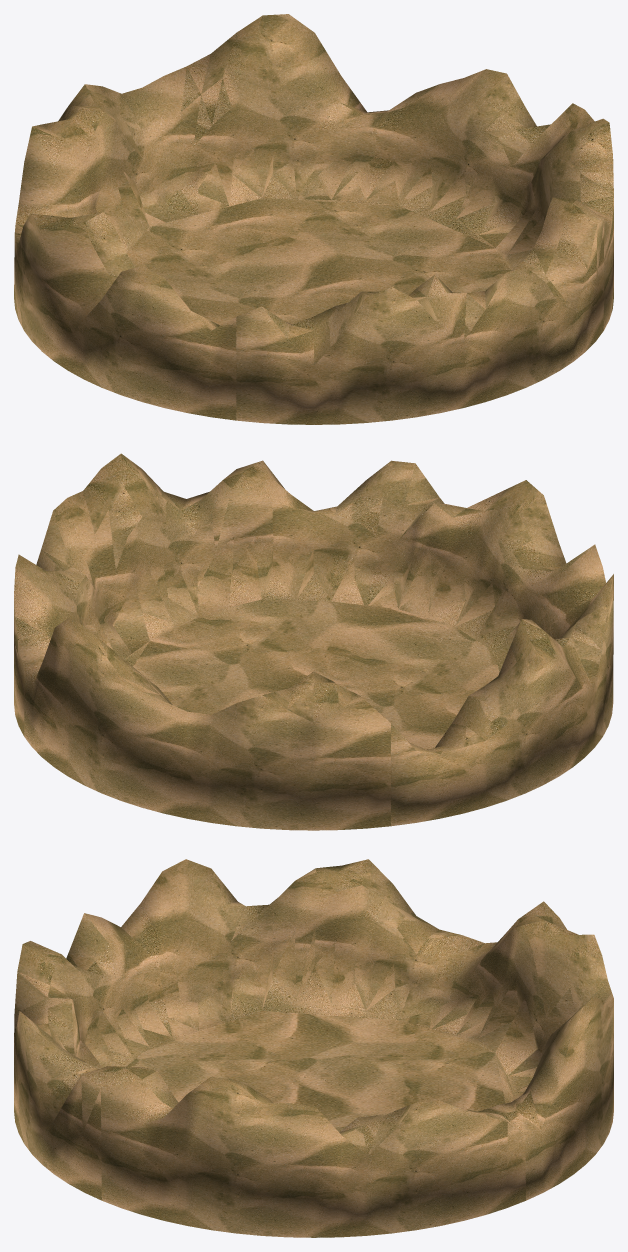
The model's file is MH_Stage1-4.fbx.
3 renders of one model, top to bottom at view 1: azimuth 30°, elevation 25°; view 2: azimuth 150°, elevation 25°; view 3: azimuth 270°, elevation 25°, orthographic.
Visible parts, largest first — view 1: Cylinder001; view 2: Cylinder001; view 3: Cylinder001.
Boxes of the visible parts, x1,y1,x2,y2 form: Cylinder001: (14,14,613,424); Cylinder001: (14,453,613,830); Cylinder001: (14,859,613,1237).
Bounding box in the file's own units: 11028 × 11028 × 3216.
1 material, 1 textured.
